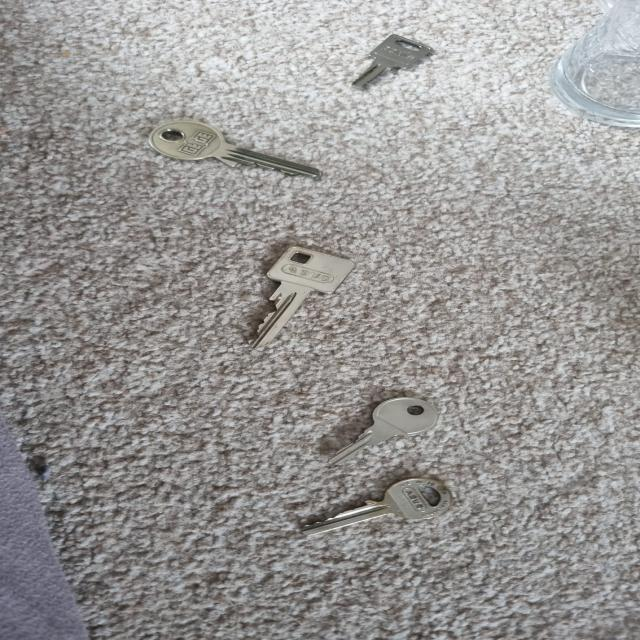Cup: (551, 0, 639, 128)
Key: (251, 246, 354, 348), (150, 121, 318, 177), (304, 478, 451, 536), (330, 397, 438, 464), (331, 397, 437, 463), (353, 35, 432, 87)
